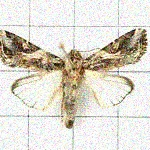Spodoptera litura: (0, 28, 149, 129)
